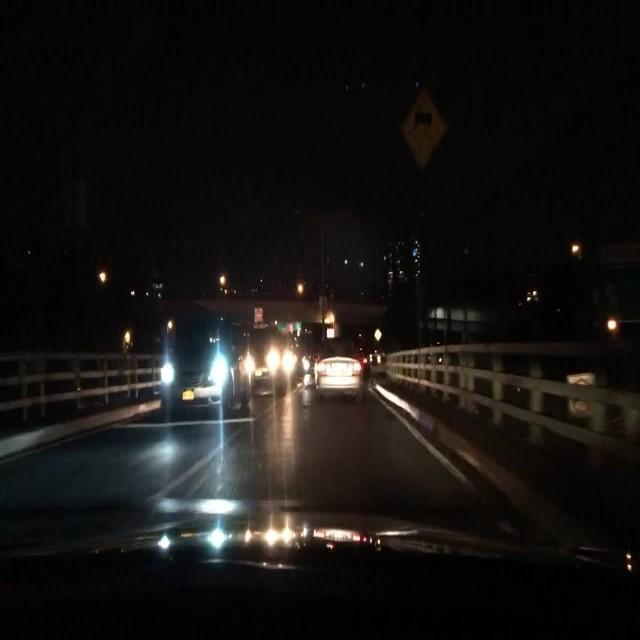normal: (130, 276, 304, 420), (305, 356, 365, 402)
